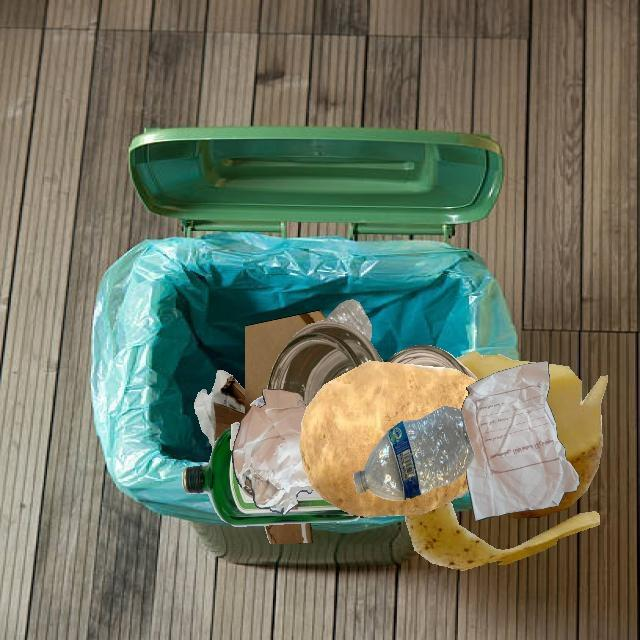biowaste: (299, 361, 478, 517), (469, 363, 560, 542)
cardboard: (250, 407, 456, 517), (245, 310, 326, 415), (194, 370, 245, 452), (263, 523, 313, 544)
glass: (182, 428, 360, 526), (267, 321, 384, 408), (386, 345, 478, 381)
paper: (461, 362, 579, 521), (232, 388, 314, 515), (230, 422, 240, 452), (250, 396, 265, 407)
plastic: (353, 406, 474, 501), (325, 300, 372, 341)
